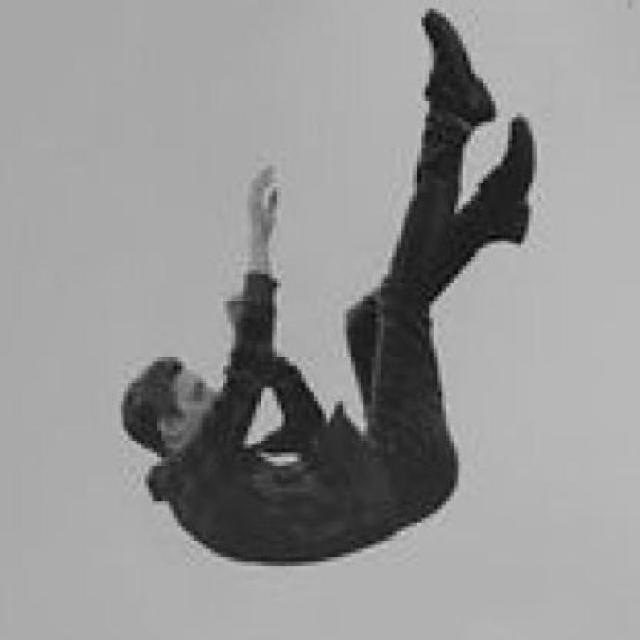fall: (116, 1, 544, 561)
